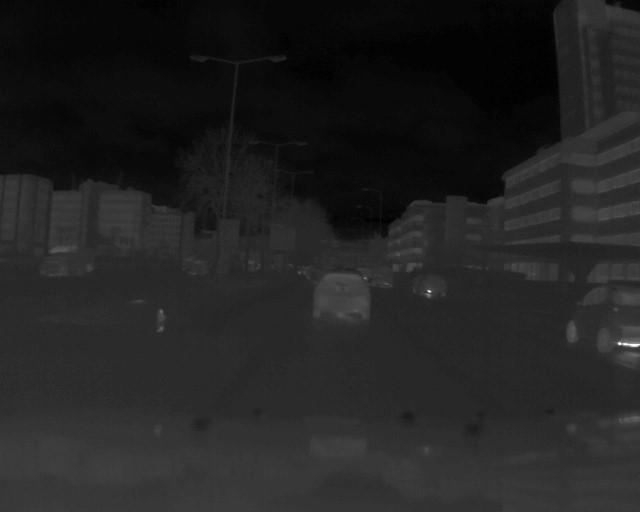car: (565, 280, 640, 353), (312, 265, 375, 332), (37, 241, 100, 281), (410, 269, 450, 300)
